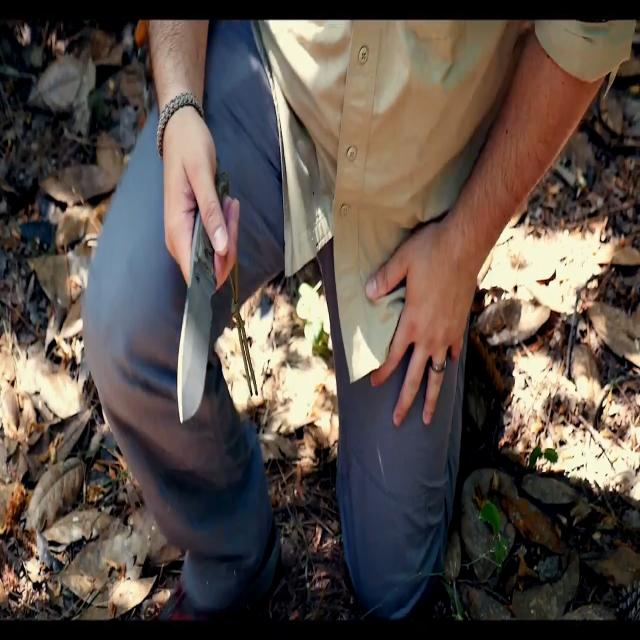knife: (176, 209, 215, 432)
